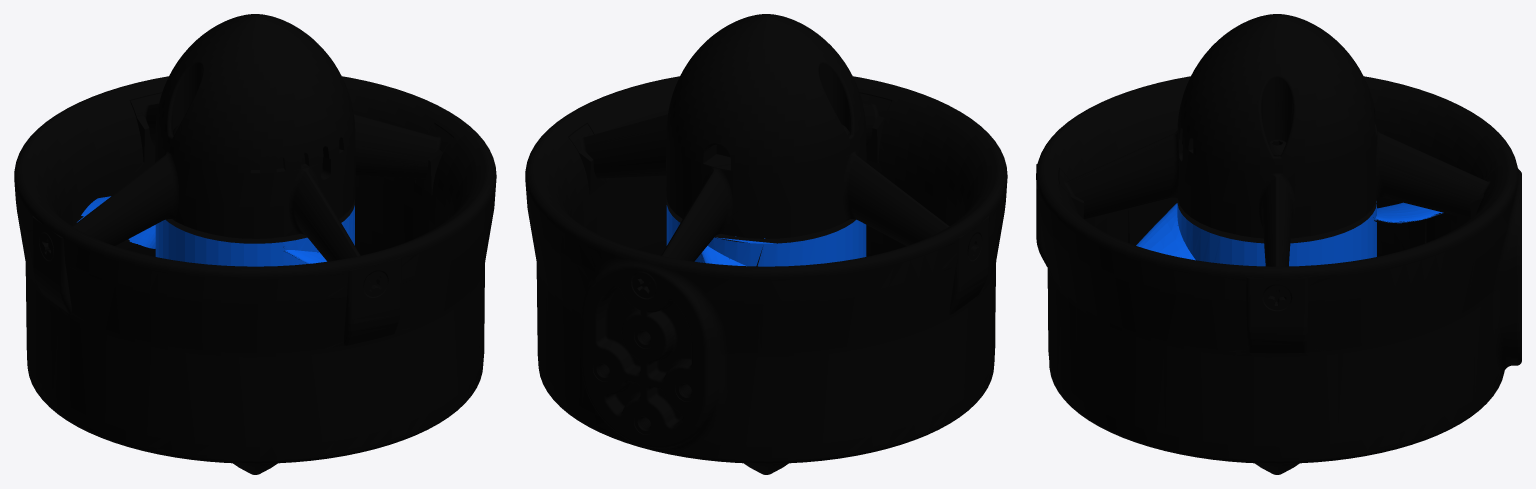
Rendered from spiderfish_thruster.dae.
3 renders of one model, left to right at view 1: azimuth 30°, elevation 25°; view 2: azimuth 150°, elevation 25°; view 3: azimuth 270°, elevation 25°, orthographic.
Visible parts, largest first — view 1: Spiderfish Thruster; view 2: Spiderfish Thruster; view 3: Spiderfish Thruster.
Boxes of the visible parts, left/top/right/bottom form: Spiderfish Thruster: left=14, top=14, right=496, bottom=474; Spiderfish Thruster: left=525, top=14, right=1007, bottom=474; Spiderfish Thruster: left=1036, top=14, right=1521, bottom=474.
Bounding box in the file's own units: 0.0966 × 0.0973 × 0.1009.
